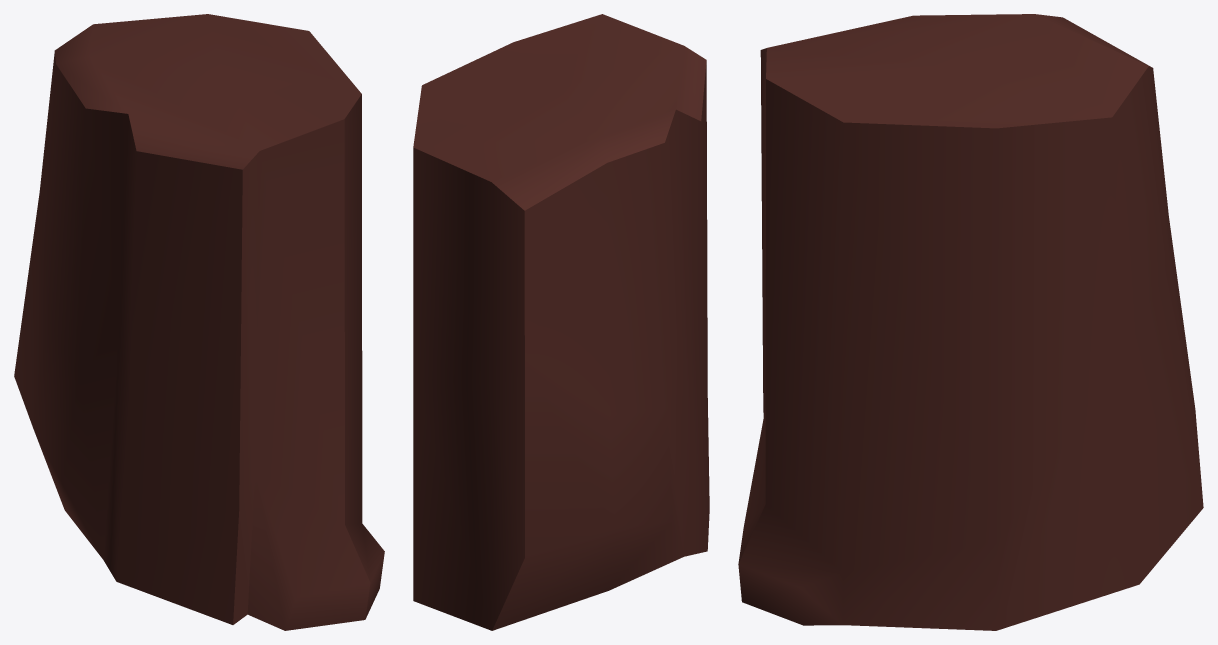
Rendered from SM_small_rock_E.fbx.
3 renders of one model, left to right at view 1: azimuth 30°, elevation 25°; view 2: azimuth 150°, elevation 25°; view 3: azimuth 270°, elevation 25°, orthographic. The views are drawn at different scales.
Parts seen in each view (by area): view 1: polySurface70; view 2: polySurface70; view 3: polySurface70.
Part boxes in pixels (left/top/right/bottom): polySurface70: left=14, top=14, right=384, bottom=630; polySurface70: left=413, top=14, right=709, bottom=630; polySurface70: left=738, top=14, right=1203, bottom=630.
Size of the model in its own units: 394 by 739 by 600.
